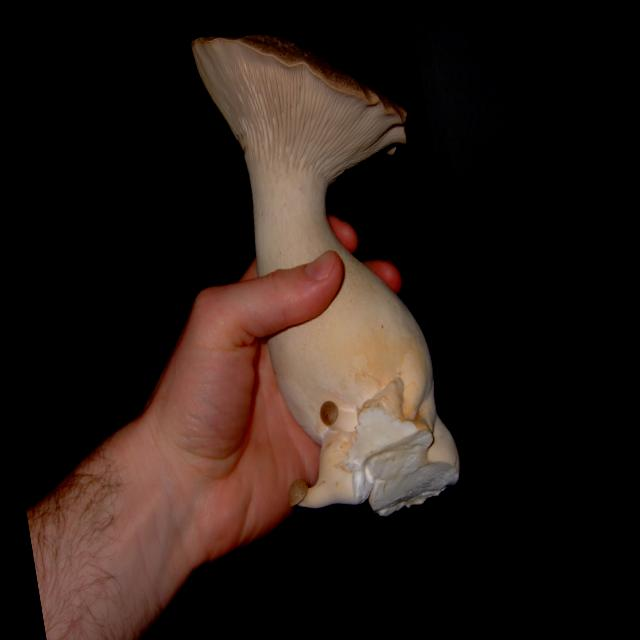Pleurotus eryngii: (190, 4, 472, 530)
